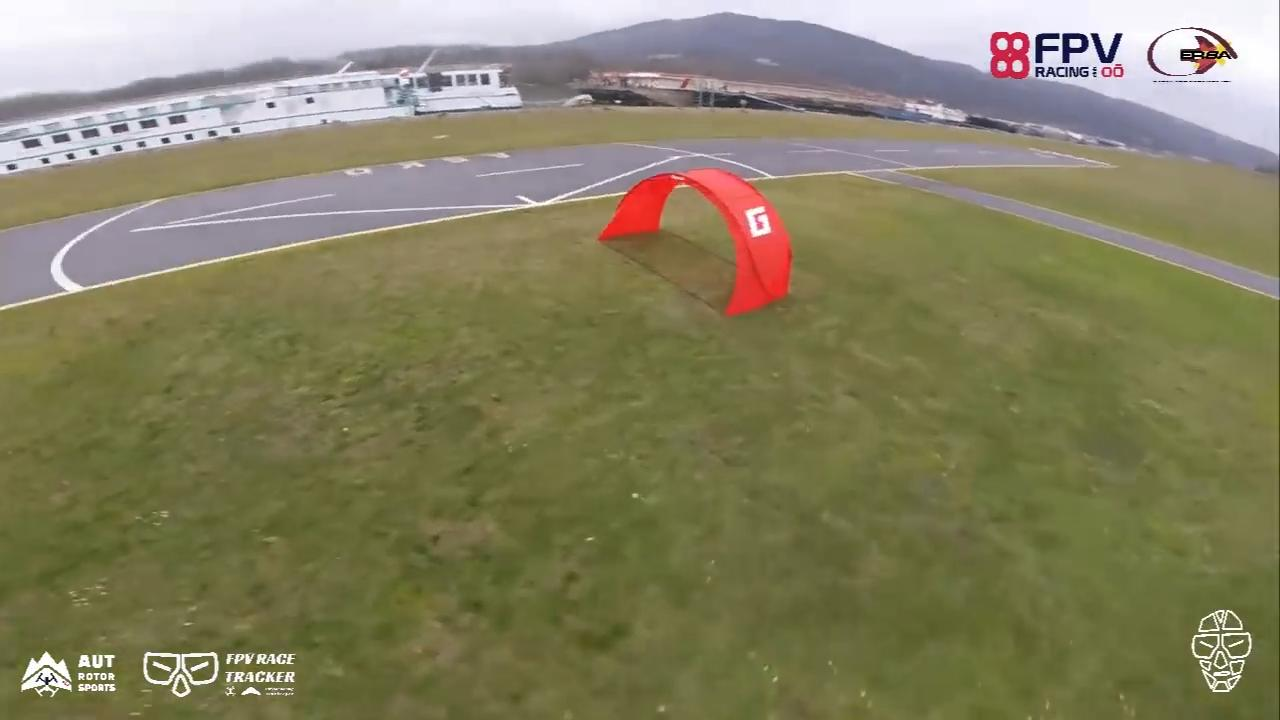gate: (594, 167, 791, 317)
